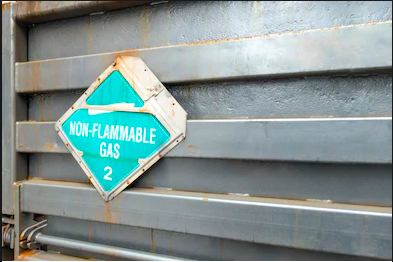NonFlammableGas: (62, 71, 168, 191)
